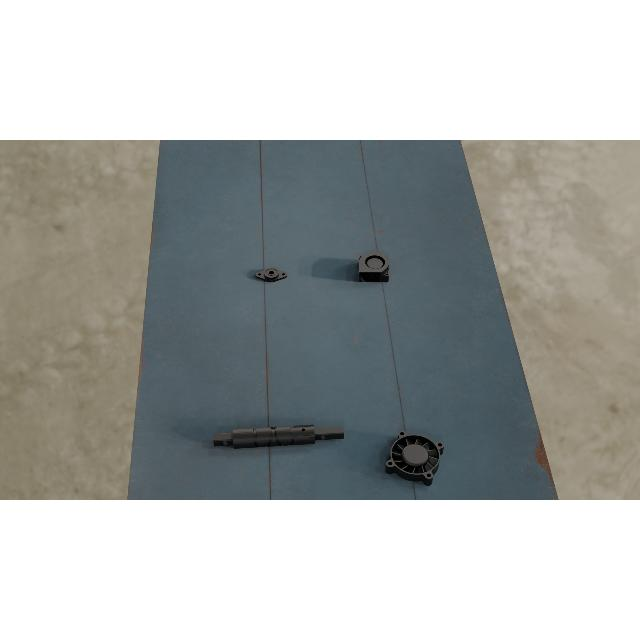Pieza1: (213, 418, 344, 454)
Pieza2: (255, 266, 287, 282)
Pieza3: (358, 252, 390, 282)
Pieza4: (384, 428, 446, 488)
